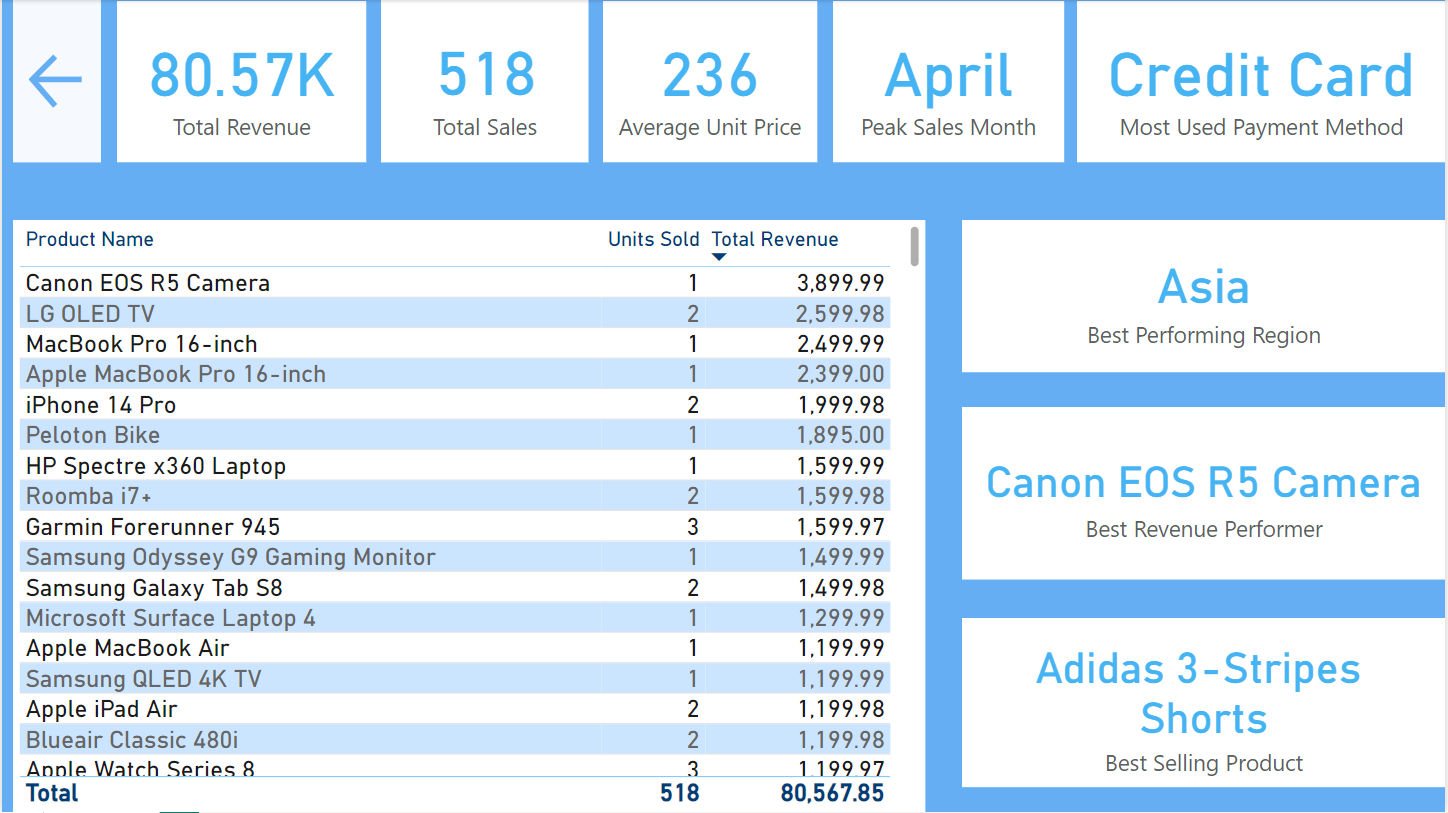

The dashboard page shown, as its layout file describes it:
{"tool":"powerbi","page":{"name":"Info","canvas":[1280,720],"ordinal":1},"visuals":[{"type":"tableEx","fields":{"Values":["Online Sales Data.Product Name","Sum(Online Sales Data.Units Sold)","Sum(Online Sales Data.Total Revenue)"]},"box":[9.6,194.7,808.9,525.3],"z":0},{"type":"card","title":"High Value Items","fields":{"Values":["Min(Online Sales Data.Product Name)"]},"box":[851,548.1,429.1,150.3],"z":1000},{"type":"card","title":"High Value Items","fields":{"Values":["Min(Online Sales Data.Product Name)"]},"box":[851,360.6,429.1,152.7],"z":2000},{"type":"card","title":"High Value Items","fields":{"Values":["Sum(Online Sales Data.Total Revenue)"]},"box":[102.3,1.3,221.1,142.8],"z":3000},{"type":"card","title":"High Value Items","fields":{"Values":["Sum(Online Sales Data.Units Sold)"]},"box":[336.1,0,184.5,144],"z":4000},{"type":"card","title":"High Value Items","fields":{"Values":["Min(Online Sales Data.Region)"]},"box":[851,194.7,429.1,134.6],"z":5000},{"type":"card","fields":{"Values":["Min(Online Sales Data.Date.Variation.Date Hierarchy.Month)"]},"box":[736.7,1.3,204.7,142.8],"z":6000},{"type":"card","title":"High Value Items","fields":{"Values":["Avg(Online Sales Data.Unit Price)"]},"box":[533.2,1.3,189.5,142.8],"z":7000},{"type":"card","title":"High Value Items","fields":{"Values":["Min(Online Sales Data.Payment Method)"]},"box":[953.2,1.2,326.9,143],"z":8000},{"type":"actionButton","box":[9.6,0,78.1,144.2],"z":9000}]}

Visuals, with their boxes in screenshot pixels (x1, y1, x2, y2), scaled from the page's 1280x720 canvas onto the 1448x813 screenshot:
tableEx - Online Sales Data.Product Name x Sum(Online Sales Data.Units Sold): detection(11, 220, 926, 812)
"High Value Items" card: detection(963, 619, 1447, 789)
"High Value Items" card: detection(963, 407, 1447, 580)
"High Value Items" card: detection(116, 1, 366, 163)
"High Value Items" card: detection(380, 0, 589, 163)
"High Value Items" card: detection(963, 220, 1447, 372)
card - Min(Online Sales Data.Date.Variation.Date Hierarchy.Month): detection(833, 1, 1065, 163)
"High Value Items" card: detection(603, 1, 818, 163)
"High Value Items" card: detection(1078, 1, 1447, 163)
actionButton: detection(11, 0, 99, 163)
